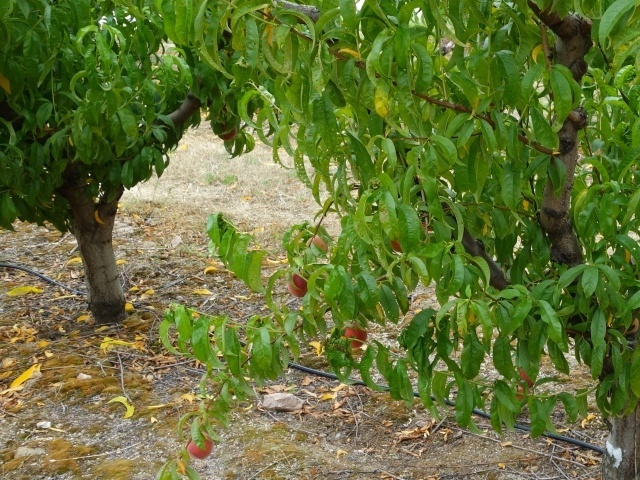peach: (182, 429, 216, 461), (284, 269, 312, 303), (340, 318, 368, 349), (305, 232, 334, 259), (214, 120, 238, 143)
